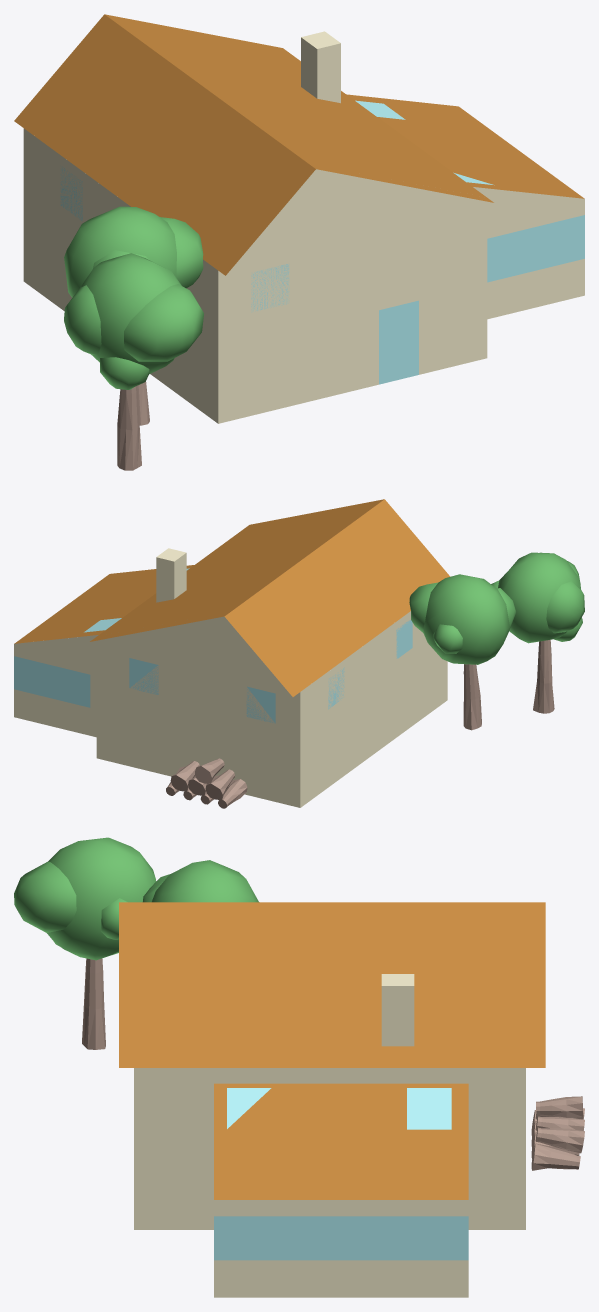
File: building-house.glb
3 renders of one model, top to bottom at view 1: azimuth 30°, elevation 25°; view 2: azimuth 150°, elevation 25°; view 3: azimuth 270°, elevation 25°, orthographic. The views are drawn at different scales.
Parts seen in each view (by area): view 1: object 4, object 1, object 2, object 5, Node-Mesh; view 2: object 4, object 1, object 2, object 5, Node-Mesh; view 3: object 1, object 4, object 2, object 5, Node-Mesh.
Boxes of the visible parts, x1=… form: object 4: x1=23, y1=31, x2=584, y2=423; object 1: x1=14, y1=14, x2=584, y2=275; object 2: x1=64, y1=206, x2=203, y2=389; object 5: x1=60, y1=100, x2=584, y2=384; Node-Mesh: x1=117, y1=381, x2=149, y2=470; object 4: x1=14, y1=548, x2=447, y2=807; object 1: x1=14, y1=499, x2=450, y2=696; object 2: x1=409, y1=552, x2=584, y2=664; object 5: x1=14, y1=568, x2=412, y2=723; Node-Mesh: x1=166, y1=640, x2=554, y2=808; object 1: x1=119, y1=902, x2=545, y2=1199; object 4: x1=134, y1=974, x2=525, y2=1297; object 2: x1=14, y1=837, x2=259, y2=960; object 5: x1=214, y1=1088, x2=468, y2=1260; Node-Mesh: x1=82, y1=958, x2=584, y2=1170.
Size of the model in its own units: 7.01 by 2.82 by 6.03.
